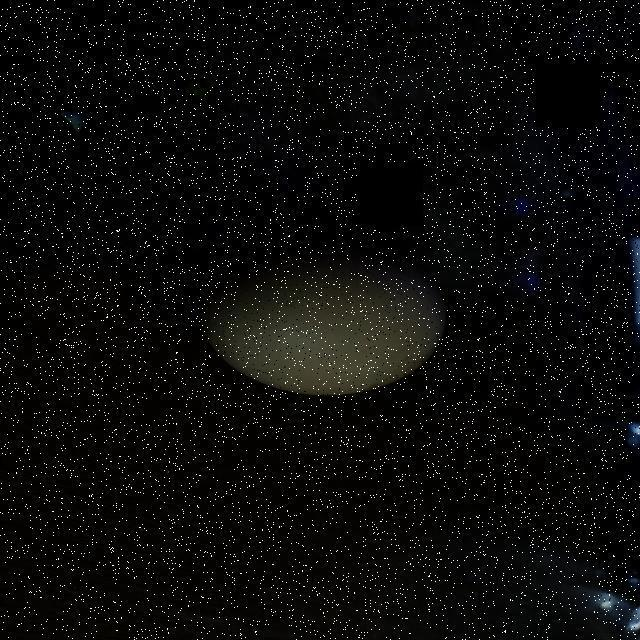egg: (190, 226, 450, 408)
